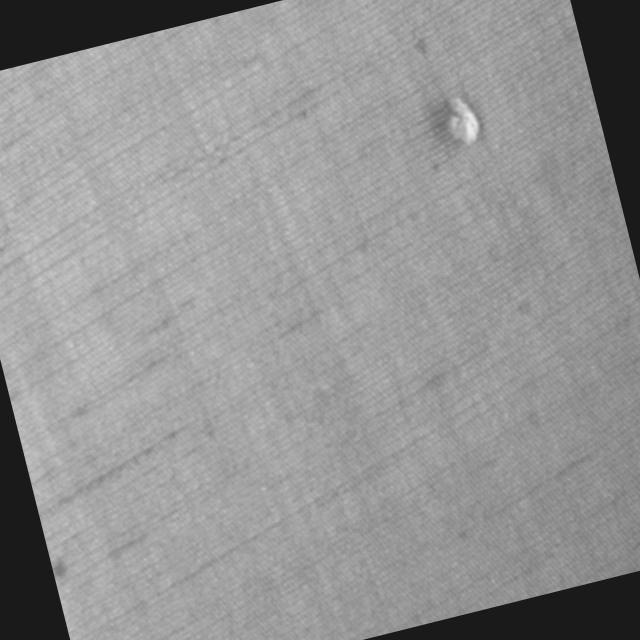objects: (437, 88, 488, 152)
